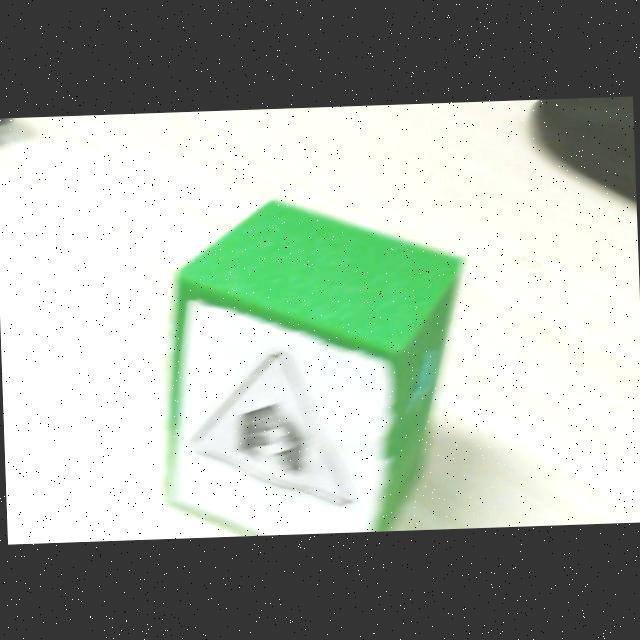Earthquake: (188, 352, 359, 507)
